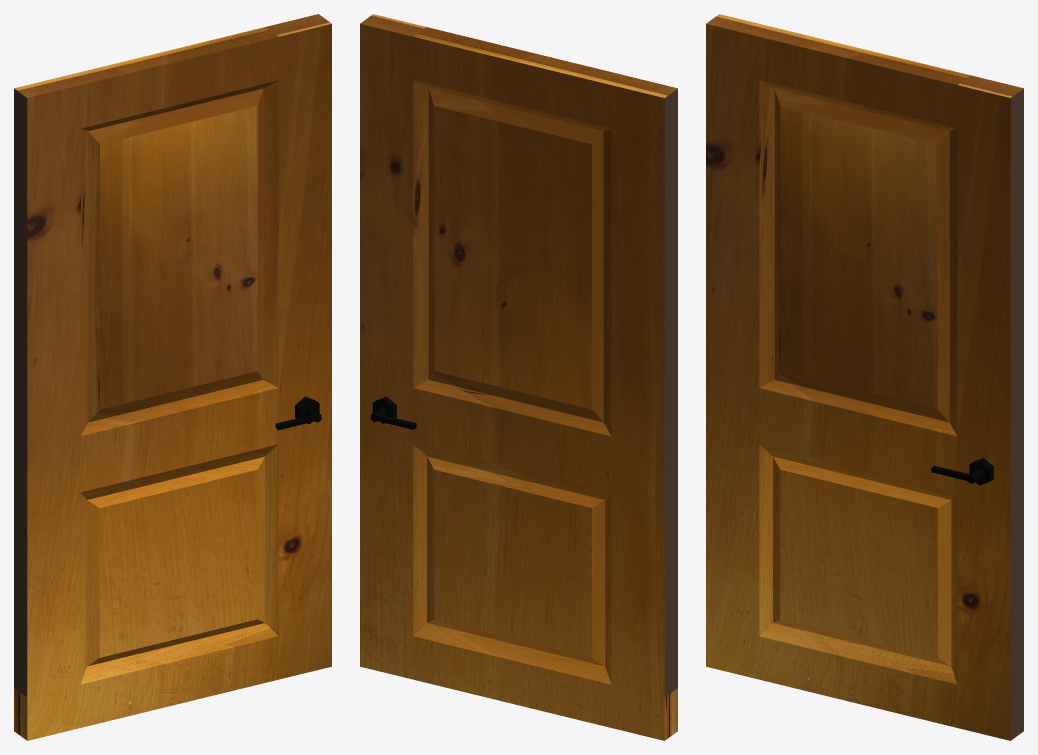
The model's file is House_Door.fbx.
3 renders of one model, left to right at view 1: azimuth 30°, elevation 25°; view 2: azimuth 150°, elevation 25°; view 3: azimuth 330°, elevation 25°, orthographic.
Parts seen in each view (by area): view 1: House_Door; view 2: House_Door; view 3: House_Door.
Boxes of the visible parts, <box> form: House_Door: <box>14,14,331,740</box>; House_Door: <box>360,14,677,740</box>; House_Door: <box>706,14,1023,740</box>.
Bounding box in the file's own units: 166 × 335 × 36.76.
